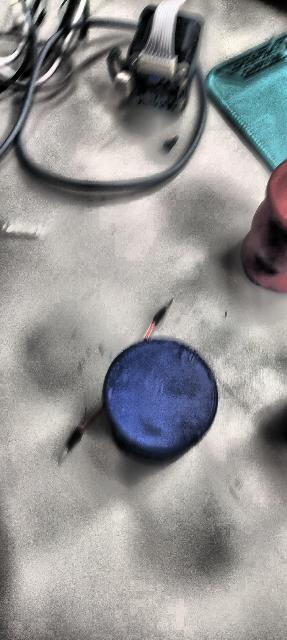blue: (103, 336, 219, 462)
red: (236, 159, 287, 298)
